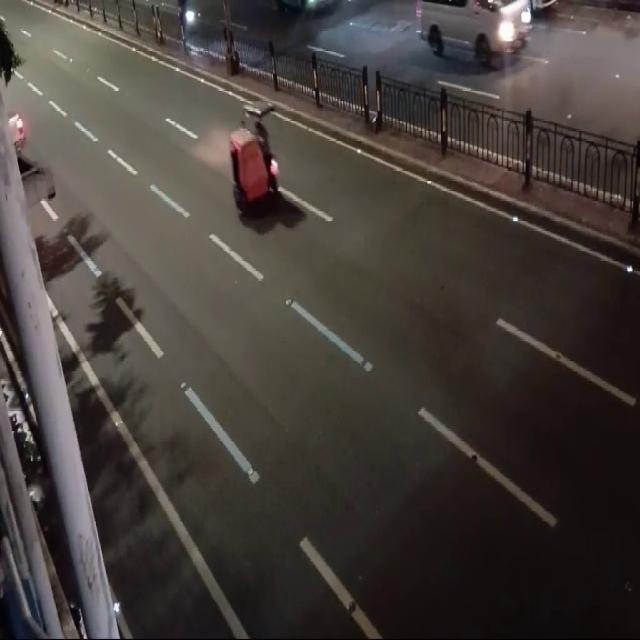car: (410, 0, 537, 77)
motorcycle: (215, 82, 292, 221)
